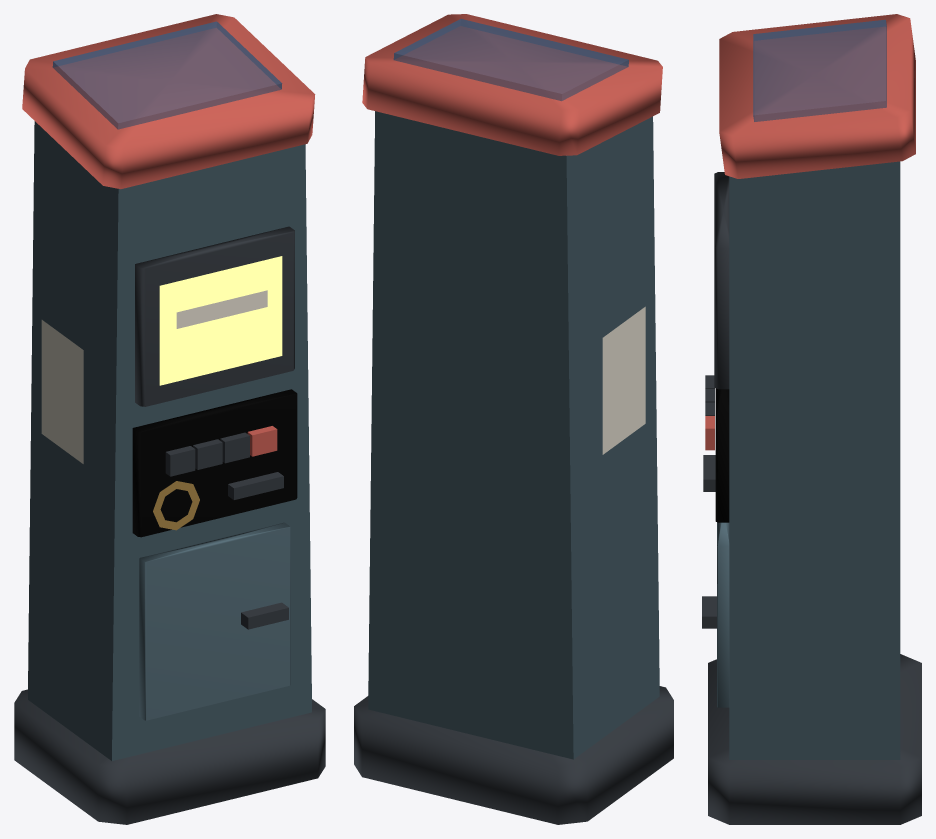
File: parking-meter.glb
3 views of the same model, side by side, from view 1: azimuth 30°, elevation 25°; view 2: azimuth 150°, elevation 25°; view 3: azimuth 270°, elevation 25° (orthographic). The views are drawn at different scales.
Visible parts, largest first — view 1: Merged_prop-body, Merged_city-metal-dark, Merged_prop-accent, Merged_meter-service-panel-surface, Merged_city-glass, Merged_prop-body-deep, Merged_city-lit-glass-surface, Merged_city-poster-surface, Merged_city-poster, Merged_city-brass; view 2: Merged_prop-body, Merged_prop-accent, Merged_city-metal-dark, Merged_city-glass, Merged_city-poster-surface; view 3: Merged_prop-body, Merged_prop-accent, Merged_city-metal-dark, Merged_city-glass, Merged_meter-service-panel-surface, Merged_prop-body-deep.
Boxes of the visible parts, box(x1,y1,x2,y2) form: Merged_prop-body: box(28, 121, 311, 760); Merged_city-metal-dark: box(14, 226, 325, 824); Merged_prop-accent: box(22, 14, 315, 456); Merged_meter-service-panel-surface: box(139, 522, 290, 720); Merged_city-glass: box(52, 21, 282, 129); Merged_prop-body-deep: box(132, 389, 297, 537); Merged_city-lit-glass-surface: box(159, 256, 282, 385); Merged_city-poster-surface: box(41, 320, 83, 463); Merged_city-poster: box(176, 290, 267, 328); Merged_city-brass: box(153, 481, 199, 530); Merged_prop-body: box(368, 111, 659, 759); Merged_prop-accent: box(362, 14, 662, 155); Merged_city-metal-dark: box(354, 686, 673, 824); Merged_city-glass: box(393, 19, 628, 100); Merged_city-poster-surface: box(602, 306, 645, 454); Merged_prop-body: box(729, 161, 900, 759); Merged_prop-accent: box(705, 14, 915, 450); Merged_city-metal-dark: box(702, 172, 921, 824); Merged_city-glass: box(753, 19, 886, 121); Merged_meter-service-panel-surface: box(717, 522, 729, 707); Merged_prop-body-deep: box(715, 388, 729, 522).
Size of what is drawn, in the model's own units: 0.5 by 1.46 by 0.411.
